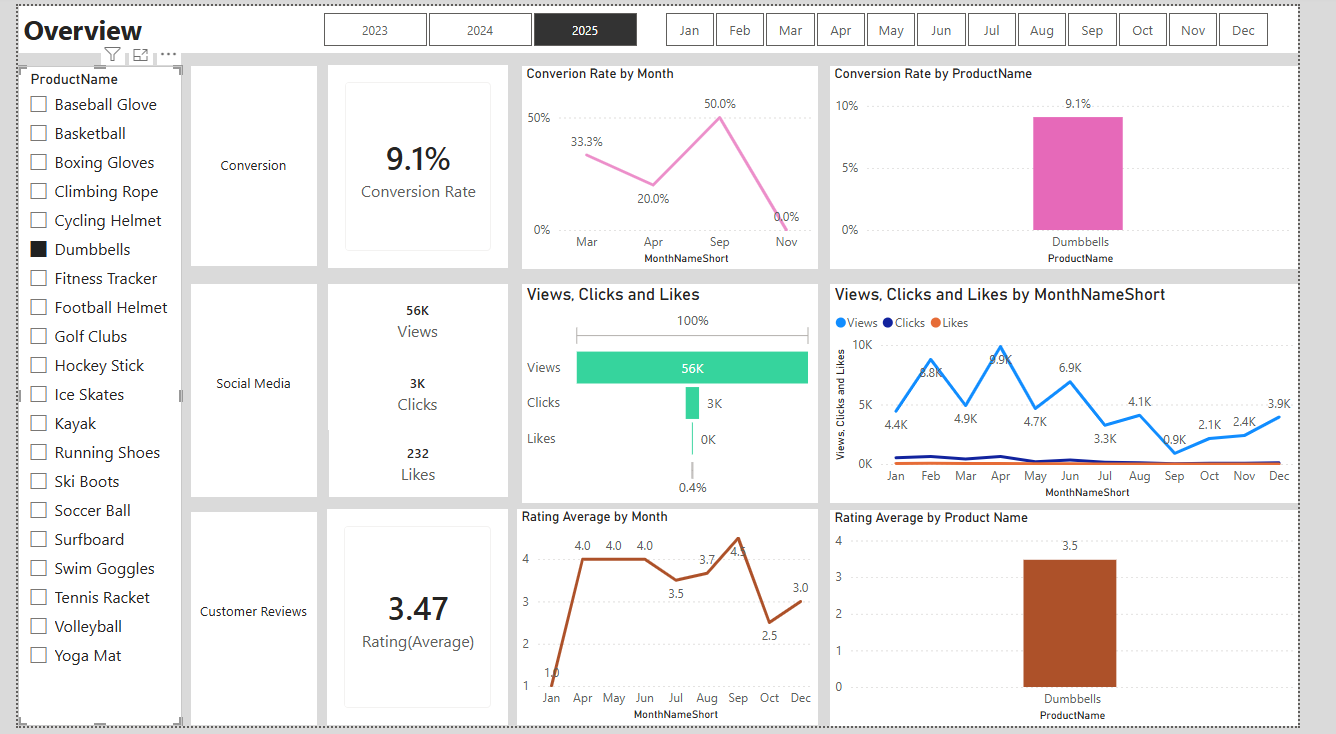

The dashboard page shown, as its layout file describes it:
{"tool":"powerbi","page":{"name":"Overview","canvas":[1280,720],"ordinal":0},"visuals":[{"type":"textbox","box":[1.1,0,1278.9,47.2],"z":0},{"type":"slicer","fields":{"Values":["dim_products.ProductName"]},"box":[0,60.3,164.4,659.5],"z":1000},{"type":"textbox","box":[173.1,60.3,125.5,199.4],"z":2000},{"type":"textbox","box":[173.1,278.2,125.5,213],"z":3000},{"type":"textbox","box":[173.2,505.9,125.7,213.3],"z":4000},{"type":"cardVisual","fields":{"Data":["_Calculation.Converion Rate"]},"box":[310,58.9,180,203.3],"z":5000},{"type":"cardVisual","fields":{"Data":["_Calculation.Views"]},"box":[310,277.8,180,73.3],"z":6000},{"type":"cardVisual","fields":{"Data":["_Calculation.Rating(Average)"]},"box":[308.9,503.3,181.1,215.6],"z":7000},{"type":"cardVisual","fields":{"Data":["_Calculation.Clicks"]},"box":[310,351.1,180,73.3],"z":8000},{"type":"cardVisual","fields":{"Data":["_Calculation.Likes"]},"box":[311.1,424.4,178.9,66.7],"z":9000},{"type":"slicer","fields":{"Values":["Calendar.MonthNameShort"]},"box":[622.2,0,652.2,46.7],"z":10000},{"type":"slicer","fields":{"Values":["Calendar.Year"]},"box":[280,0,363.3,46.7],"z":11000},{"type":"lineChart","title":"Converion Rate by Month","fields":{"Category":["Calendar.MonthNameShort"],"Y":["_Calculation.Converion Rate"]},"box":[504.4,60,295.6,203.3],"z":12000},{"type":"clusteredColumnChart","fields":{"Category":["dim_products.ProductName"],"Y":["_Calculation.Converion Rate"]},"box":[812.2,60,467.8,203.3],"z":13000},{"type":"lineChart","fields":{"Category":["Calendar.MonthNameShort"],"Y":["_Calculation.Views","_Calculation.Clicks","_Calculation.Likes"]},"box":[812.2,277.8,467.8,218.9],"z":14000},{"type":"funnel","fields":{"Y":["_Calculation.Views","_Calculation.Clicks","_Calculation.Likes"]},"box":[504.4,277.8,295.6,218.9],"z":15000},{"type":"lineChart","title":"Rating Average by Month","fields":{"Category":["Calendar.MonthNameShort"],"Y":["_Calculation.Rating(Average)"]},"box":[498.9,503.3,301.1,215.6],"z":16000},{"type":"clusteredColumnChart","title":"Rating Average by Product Name","fields":{"Category":["dim_products.ProductName"],"Y":["_Calculation.Rating(Average)"]},"box":[812.2,504.4,467.8,215.6],"z":17000}]}

Visuals, with their boxes in screenshot pixels (x1, y1, x2, y2), scaled from the page's 1280x720 canvas onto the 1336x734 screenshot:
textbox: bbox=[1, 0, 1335, 48]
slicer - dim_products.ProductName: bbox=[0, 61, 172, 733]
textbox: bbox=[181, 61, 312, 265]
textbox: bbox=[181, 284, 312, 501]
textbox: bbox=[181, 516, 312, 733]
cardVisual - _Calculation.Converion Rate: bbox=[324, 60, 511, 267]
cardVisual - _Calculation.Views: bbox=[324, 283, 511, 358]
cardVisual - _Calculation.Rating(Average): bbox=[322, 513, 511, 733]
cardVisual - _Calculation.Clicks: bbox=[324, 358, 511, 433]
cardVisual - _Calculation.Likes: bbox=[325, 433, 511, 501]
slicer - Calendar.MonthNameShort: bbox=[649, 0, 1330, 48]
slicer - Calendar.Year: bbox=[292, 0, 671, 48]
"Converion Rate by Month" lineChart: bbox=[526, 61, 835, 268]
clusteredColumnChart - dim_products.ProductName x _Calculation.Converion Rate: bbox=[848, 61, 1335, 268]
lineChart - Calendar.MonthNameShort x _Calculation.Views: bbox=[848, 283, 1335, 506]
funnel - _Calculation.Views x _Calculation.Clicks: bbox=[526, 283, 835, 506]
"Rating Average by Month" lineChart: bbox=[521, 513, 835, 733]
"Rating Average by Product Name" clusteredColumnChart: bbox=[848, 514, 1335, 733]
